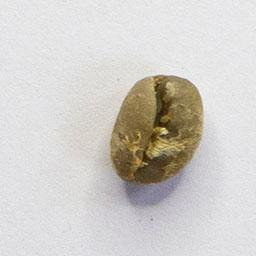peaberry: (103, 70, 207, 188)
